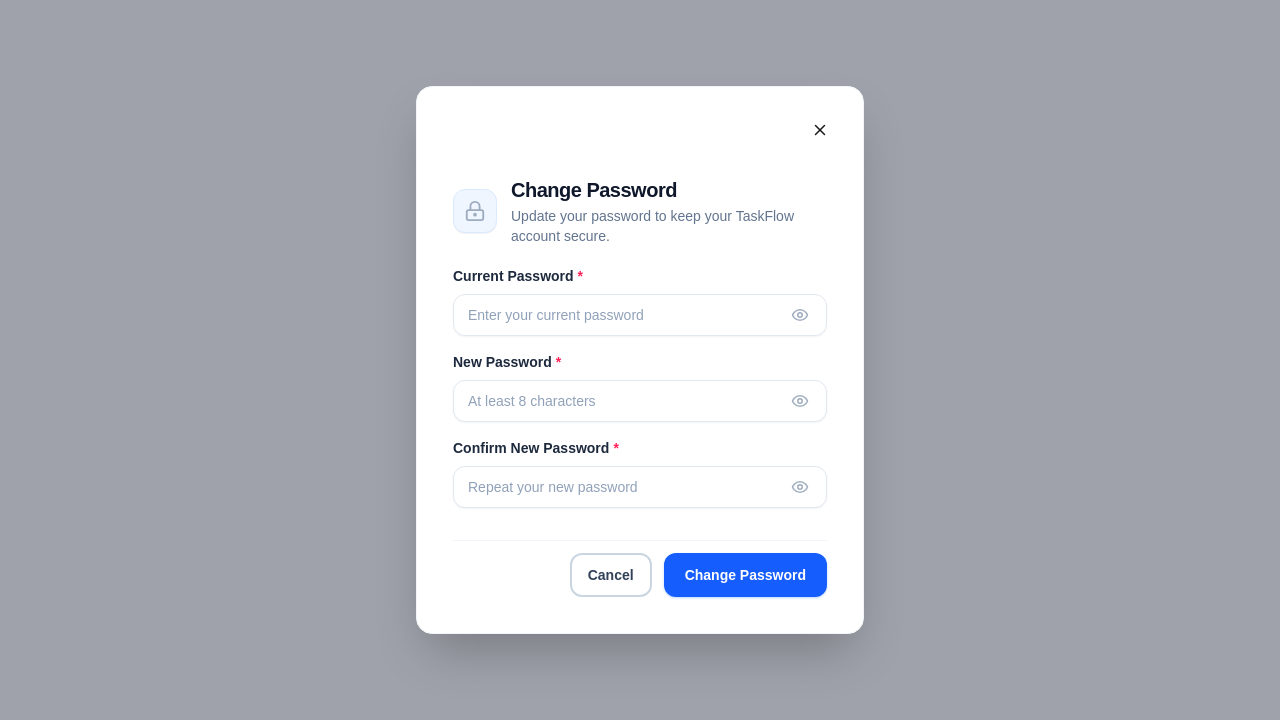
Test: ChangePasswordModal Component › shows error when new password is less than 8 characters
The width and height of the screenshot is (1280, 720).
Step 1. Type "CurrentPass@123" into the password field labelled "Current Password*" → [640, 315], box [453, 294, 827, 336]
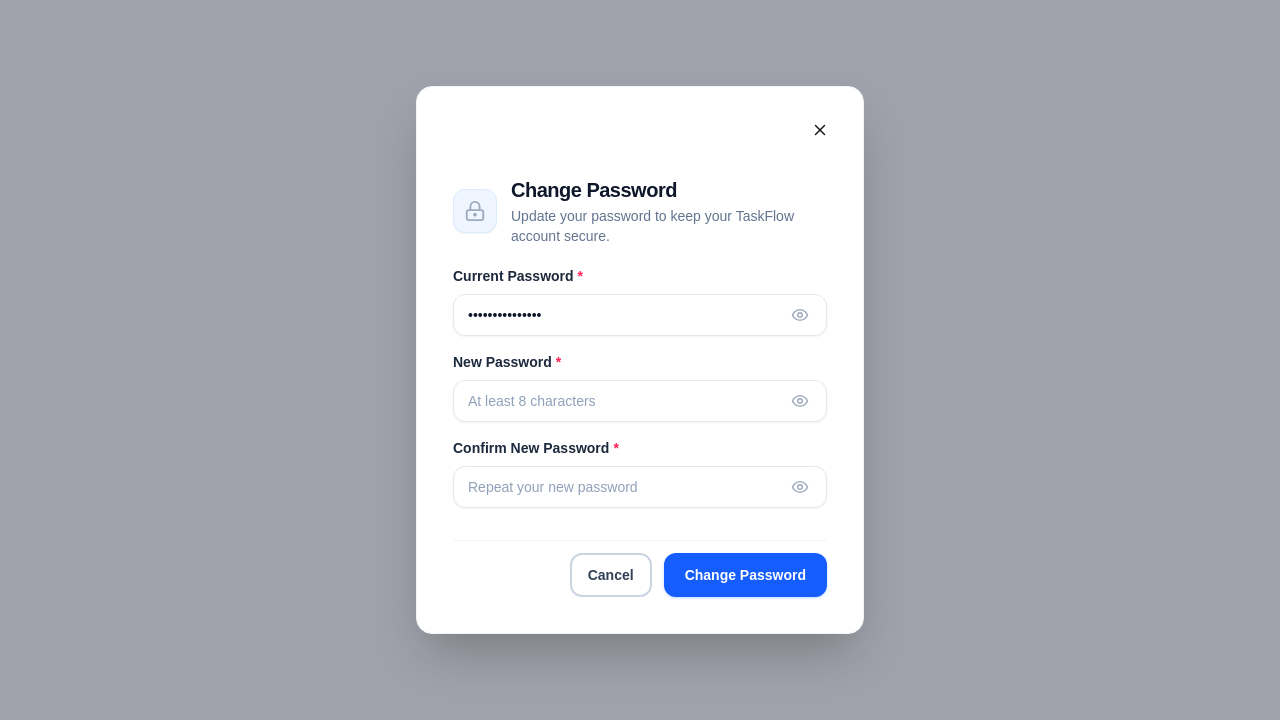
Step 2. Type "short" into the password field labelled "New Password*" → [640, 401], box [453, 380, 827, 422]
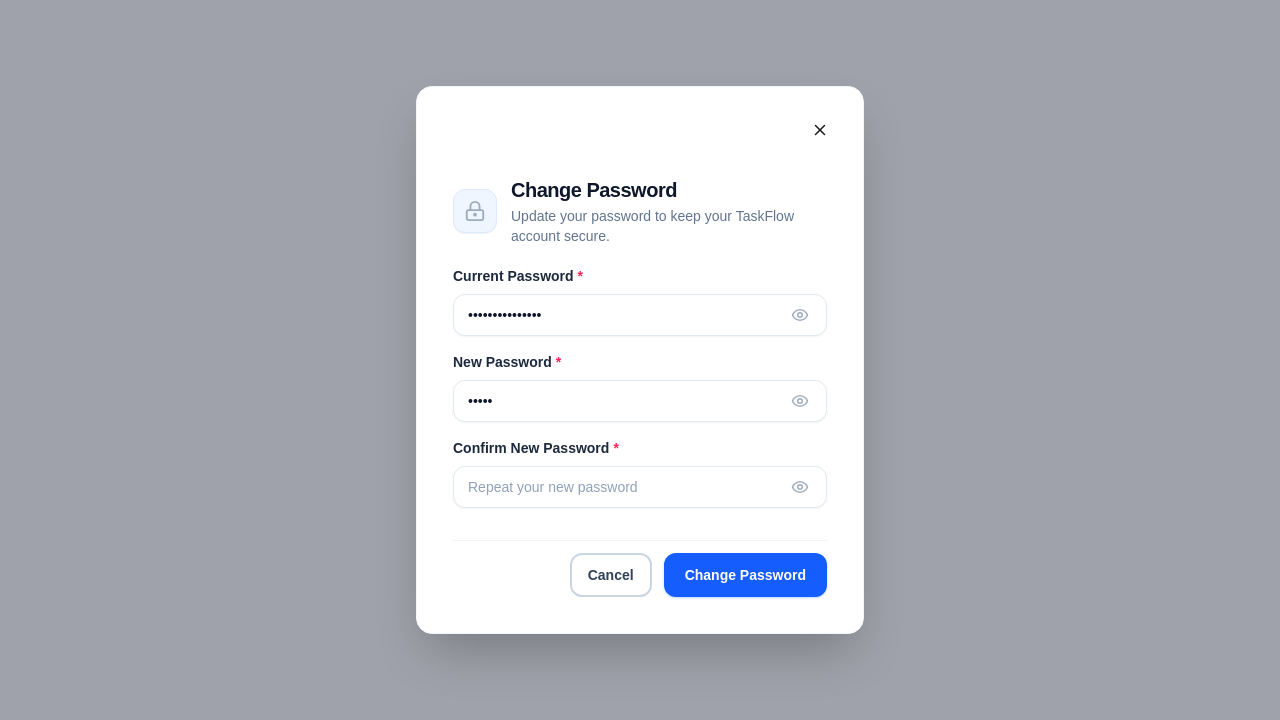
Step 3. Type "short" into the password field labelled "Confirm New Password*" → [640, 487], box [453, 466, 827, 508]
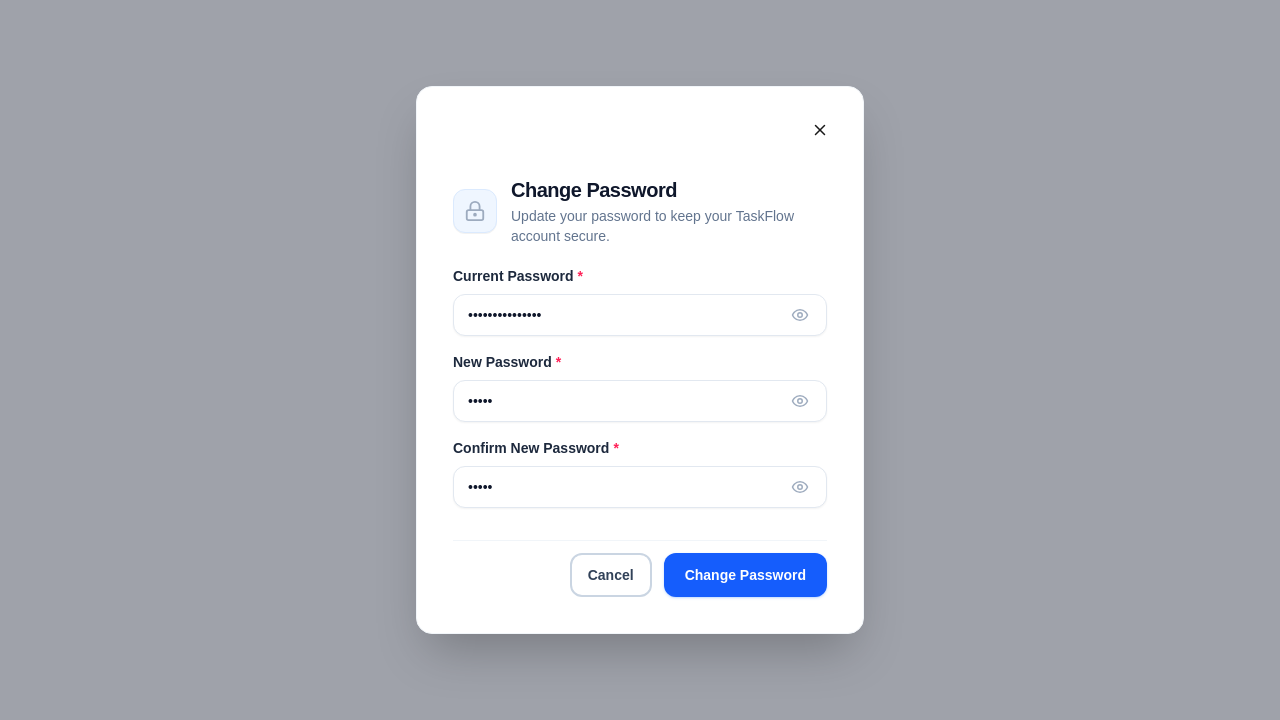
Step 4. Click the button "Change Password" → [745, 575], box [664, 553, 827, 597]
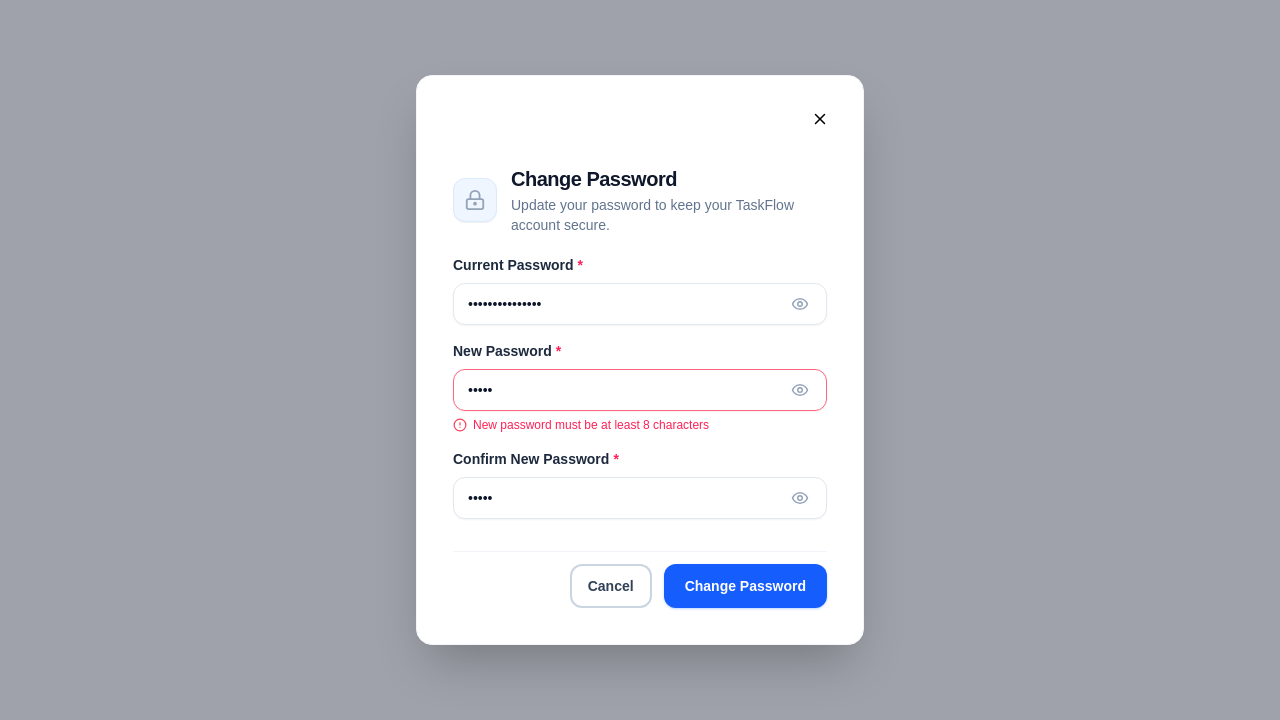
expect the text "New password must be at least 8 characters" is shown: met, box [473, 417, 709, 433]
